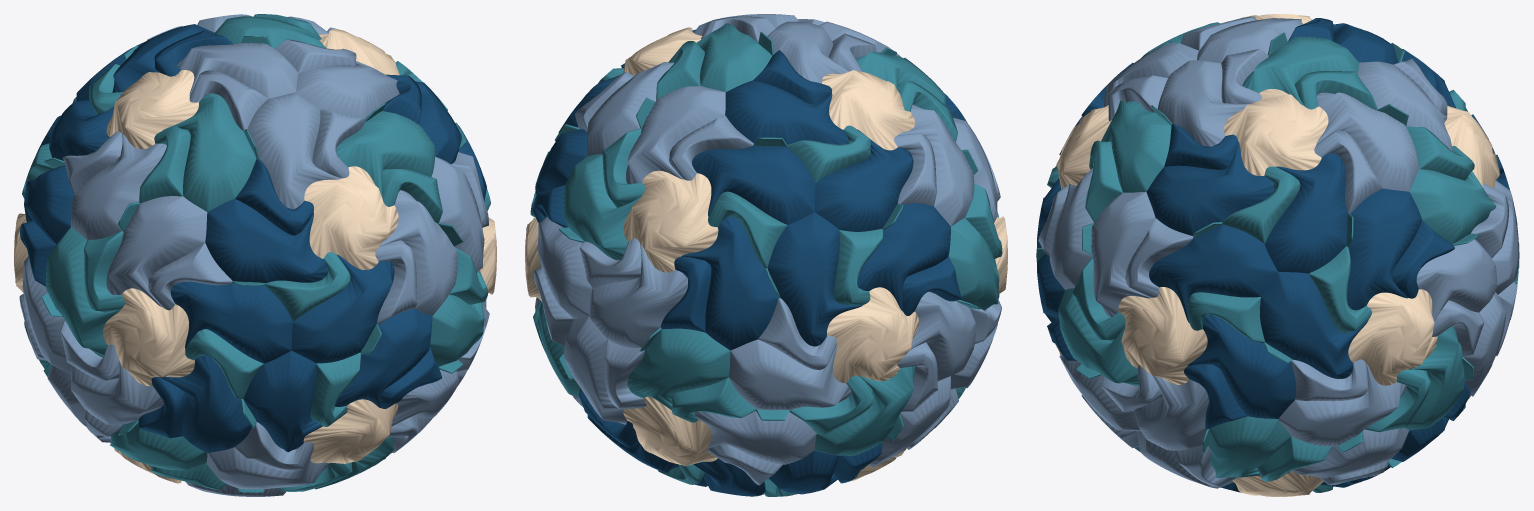
Rendered from kaleidoscope.glb.
3 views of the same model, side by side, from view 1: azimuth 30°, elevation 25°; view 2: azimuth 150°, elevation 25°; view 3: azimuth 270°, elevation 25° (orthographic).
Parts seen in each view (by area): view 1: panel_236_swirl3, panel_229_swirl3, panel_006_axis5, panel_190_swirl3, panel_196_swirl3, panel_205_swirl3, panel_220_swirl3, panel_012_axis5, panel_187_swirl3, panel_195_swirl3, panel_198_swirl3, panel_224_swirl3 (+53 smaller); view 2: panel_194_swirl3, panel_192_swirl3, panel_239_swirl3, panel_008_axis5, panel_011_axis5, panel_215_swirl3, panel_226_swirl3, panel_200_swirl3, panel_185_swirl3, panel_225_swirl3, panel_210_swirl3, panel_211_swirl3 (+54 smaller); view 3: panel_201_swirl3, panel_219_swirl3, panel_212_swirl3, panel_206_swirl3, panel_184_swirl3, panel_002_axis5, panel_213_swirl3, panel_009_axis5, panel_010_axis5, panel_214_swirl3, panel_183_swirl3, panel_207_swirl3 (+52 smaller).
Part boxes in pixels (left/top/right/bottom): panel_236_swirl3: left=205, top=199, right=327, bottom=283; panel_229_swirl3: left=170, top=281, right=293, bottom=363; panel_006_axis5: left=304, top=166, right=398, bottom=269; panel_190_swirl3: left=106, top=196, right=207, bottom=306; panel_196_swirl3: left=291, top=254, right=394, bottom=363; panel_205_swirl3: left=162, top=93, right=256, bottom=211; panel_220_swirl3: left=247, top=92, right=341, bottom=209; panel_012_axis5: left=103, top=288, right=194, bottom=385; panel_187_swirl3: left=243, top=350, right=322, bottom=452; panel_195_swirl3: left=71, top=133, right=166, bottom=239; panel_198_swirl3: left=159, top=355, right=251, bottom=452; panel_224_swirl3: left=336, top=111, right=435, bottom=197; panel_194_swirl3: left=681, top=216, right=778, bottom=350; panel_192_swirl3: left=767, top=212, right=862, bottom=346; panel_239_swirl3: left=692, top=145, right=815, bottom=224; panel_008_axis5: left=623, top=170, right=718, bottom=272; panel_011_axis5: left=827, top=287, right=918, bottom=383; panel_215_swirl3: left=814, top=129, right=913, bottom=231; panel_226_swirl3: left=729, top=339, right=851, bottom=409; panel_200_swirl3: left=589, top=244, right=687, bottom=347; panel_185_swirl3: left=627, top=328, right=730, bottom=410; panel_225_swirl3: left=725, top=80, right=848, bottom=144; panel_210_swirl3: left=857, top=203, right=950, bottom=311; panel_211_swirl3: left=626, top=86, right=725, bottom=184; panel_201_swirl3: left=1264, top=153, right=1347, bottom=273; panel_219_swirl3: left=1149, top=224, right=1277, bottom=322; panel_212_swirl3: left=1260, top=271, right=1368, bottom=378; panel_206_swirl3: left=1146, top=141, right=1274, bottom=235; panel_184_swirl3: left=1347, top=188, right=1422, bottom=310; panel_002_axis5: left=1224, top=89, right=1328, bottom=175; panel_213_swirl3: left=1187, top=314, right=1295, bottom=418; panel_009_axis5: left=1348, top=289, right=1437, bottom=385; panel_010_axis5: left=1118, top=287, right=1207, bottom=384; panel_214_swirl3: left=1316, top=92, right=1419, bottom=191; panel_183_swirl3: left=1091, top=192, right=1155, bottom=317; panel_207_swirl3: left=1278, top=364, right=1406, bottom=446.
Bounding box in the file's own units: 4.24 × 4.24 × 4.24.
